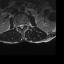CCS_normal: (21, 23, 22, 30)
LFS_stenosis: (24, 22, 26, 27)
LLS_normal: (22, 23, 24, 28)
RFS_stenosis: (17, 23, 19, 28)
RLS_normal: (19, 23, 21, 28)
